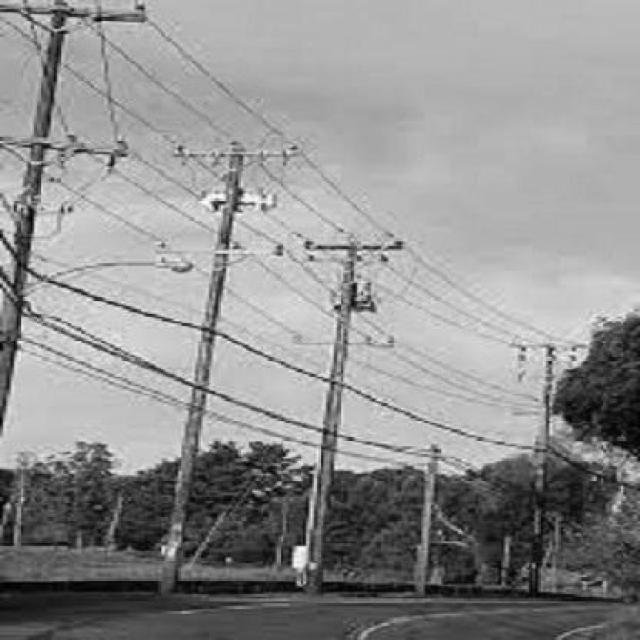Pole: (158, 147, 244, 592), (302, 236, 403, 592), (0, 12, 65, 392)
